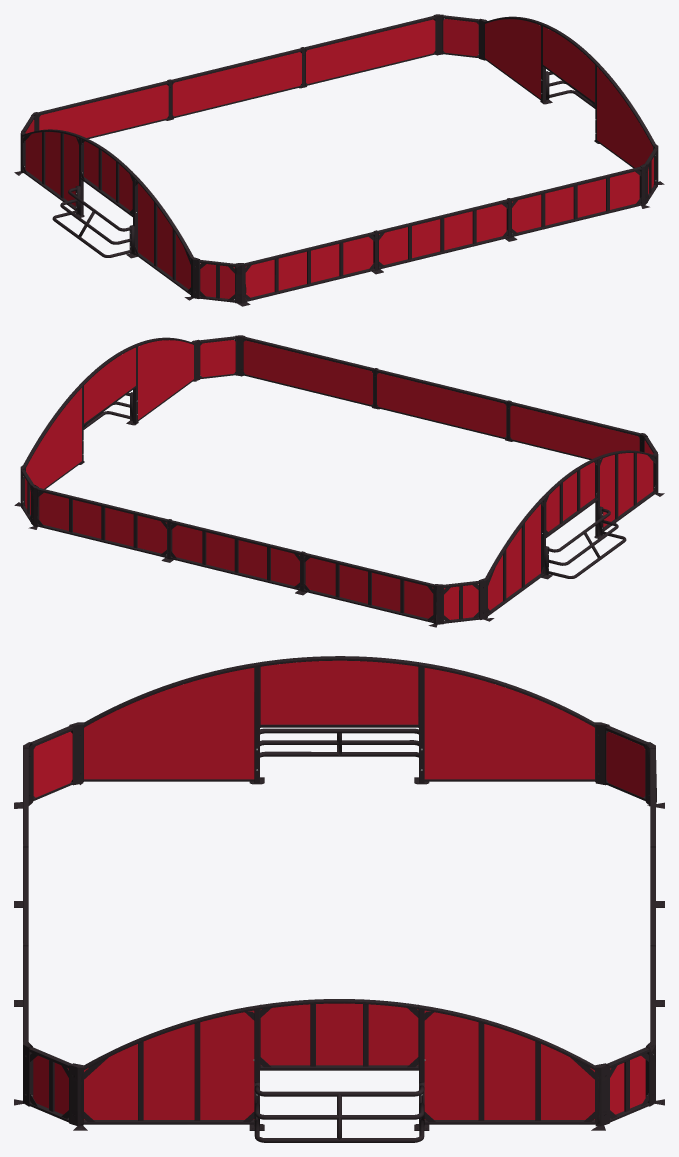
Rendered from panna-court.glb.
3 renders of one model, top to bottom at view 1: azimuth 30°, elevation 25°; view 2: azimuth 150°, elevation 25°; view 3: azimuth 270°, elevation 25°, orthographic. The views are drawn at different scales.
Parts seen in each view (by area): view 1: WEB_K1_N_2_sheet, WEB_K1_N_1_sheet, WEB_K1_N_0_sheet, WEB_K1_S_0_sheet, WEB_K1_S_1_sheet, WEB_K1_S_2_sheet, WEB_K3L_upper_0_sheet, WEB_K3P_lower_0_sheet, WEB_K3L_upper_180_sheet, WEB_K3P_lower_180_sheet, WEB_K4_header_0_sheet, WEB_K1_S_1_frame (+17 smaller); view 2: WEB_K1_S_2_sheet, WEB_K1_S_1_sheet, WEB_K1_S_0_sheet, WEB_K1_N_0_sheet, WEB_K1_N_1_sheet, WEB_K1_N_2_sheet, WEB_K3P_lower_0_sheet, WEB_K3L_upper_0_sheet, WEB_K3P_lower_180_sheet, WEB_K3L_upper_180_sheet, WEB_K4_header_0_sheet, WEB_K1_N_1_frame (+17 smaller); view 3: WEB_K3L_upper_180_sheet, WEB_K3P_lower_180_sheet, WEB_K3L_upper_0_sheet, WEB_K3P_lower_0_sheet, WEB_K4_header_180_sheet, WEB_K4_header_0_sheet, WEB_K3L_upper_0_frame, WEB_K3P_lower_0_frame, WEB_BR1_goal_0_frame, WEB_K4_header_0_frame, WEB_BR1_goal_180_frame, WEB_K3L_upper_180_frame (+11 smaller).
Boxes of the visible parts, <box> form: WEB_K1_N_2_sheet: <box>306,19,435,83</box>; WEB_K1_N_1_sheet: <box>172,52,301,116</box>; WEB_K1_N_0_sheet: <box>39,84,168,137</box>; WEB_K1_S_0_sheet: <box>245,236,373,297</box>; WEB_K1_S_1_sheet: <box>379,204,506,264</box>; WEB_K1_S_2_sheet: <box>512,171,639,232</box>; WEB_K3L_upper_0_sheet: <box>485,19,540,98</box>; WEB_K3P_lower_0_sheet: <box>597,67,652,167</box>; WEB_K3L_upper_180_sheet: <box>138,183,190,289</box>; WEB_K3P_lower_180_sheet: <box>25,132,78,206</box>; WEB_K4_header_0_sheet: <box>543,26,594,102</box>; WEB_K1_S_1_frame: <box>377,199,508,269</box>; WEB_K1_S_2_sheet: <box>243,340,372,404</box>; WEB_K1_S_1_sheet: <box>377,373,506,437</box>; WEB_K1_S_0_sheet: <box>510,405,639,458</box>; WEB_K1_N_0_sheet: <box>305,557,433,618</box>; WEB_K1_N_1_sheet: <box>172,525,299,585</box>; WEB_K1_N_2_sheet: <box>39,492,166,553</box>; WEB_K3P_lower_0_sheet: <box>138,340,193,419</box>; WEB_K3L_upper_0_sheet: <box>26,388,81,488</box>; WEB_K3P_lower_180_sheet: <box>488,504,540,610</box>; WEB_K3L_upper_180_sheet: <box>600,453,653,527</box>; WEB_K4_header_0_sheet: <box>84,347,135,423</box>; WEB_K1_N_1_frame: <box>170,520,301,590</box>; WEB_K3L_upper_180_sheet: <box>84,668,254,779</box>; WEB_K3P_lower_180_sheet: <box>424,668,594,779</box>; WEB_K3L_upper_0_sheet: <box>424,1010,594,1119</box>; WEB_K3P_lower_0_sheet: <box>84,1010,254,1119</box>; WEB_K4_header_180_sheet: <box>260,660,418,724</box>; WEB_K4_header_0_sheet: <box>260,1003,418,1065</box>; WEB_K3L_upper_0_frame: <box>414,1005,595,1130</box>; WEB_K3P_lower_0_frame: <box>83,1005,264,1130</box>; WEB_BR1_goal_0_frame: <box>254,1082,424,1142</box>; WEB_K4_header_0_frame: <box>260,999,418,1070</box>; WEB_BR1_goal_180_frame: <box>260,728,418,757</box>; WEB_K3L_upper_180_frame: <box>83,662,264,784</box>.
Bounding box in the file's own units: 8.09 × 1.22 × 5.73.
